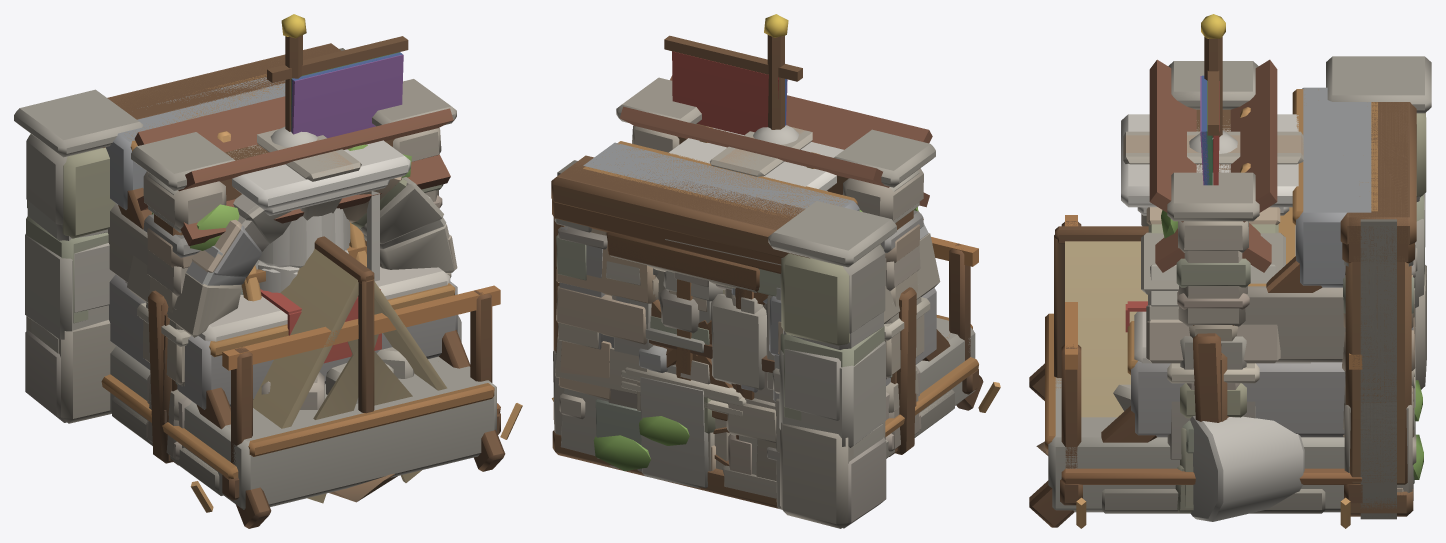
The model's file is building.glb.
The picture shows the model from 3 angles, left to right: view 1: azimuth 30°, elevation 25°; view 2: azimuth 150°, elevation 25°; view 3: azimuth 270°, elevation 25°; orthographic projection. The views are drawn at different scales.
Visible parts, largest first — view 1: p_stairs~0, p_tent~0, p_post~0, p_well~0, p_stairs~1, p_post~2, p_arch~0, p_gate~0, p_bridge~1, p_pillar~0, p_altar~0, p_banner~3 (+15 smaller); view 2: p_post~2, p_post~0, p_wallwood~0, p_walldoor~0, p_stairs~0, p_banner~0, p_wallwin~1, p_wall~3, p_wall~2, p_gate~0, p_well~0, p_wall~0 (+19 smaller); view 3: p_stairs~0, p_walldoor~0, p_tent~0, p_gate~0, p_wallwood~0, p_well~0, p_pillar~1, p_stairs~1, p_arch~1, p_post~0, p_gate~1, p_altar~0 (+14 smaller).
Part boxes in pixels (<box>): p_stairs~0: <box>105,77,496,509</box>; p_tent~0: <box>190,236,522,512</box>; p_post~0: <box>14,89,143,422</box>; p_well~0: <box>134,96,453,409</box>; p_stairs~1: <box>118,74,505,528</box>; p_post~2: <box>26,134,115,423</box>; p_arch~0: <box>127,129,454,448</box>; p_gate~0: <box>131,79,456,459</box>; p_bridge~1: <box>222,285,500,464</box>; p_pillar~0: <box>228,140,410,292</box>; p_altar~0: <box>112,266,450,495</box>; p_banner~3: <box>291,54,403,138</box>; p_post~2: <box>780,244,885,528</box>; p_post~0: <box>768,201,896,528</box>; p_wallwood~0: <box>551,155,809,508</box>; p_walldoor~0: <box>552,162,801,419</box>; p_stairs~0: <box>583,142,975,412</box>; p_banner~0: <box>664,14,802,135</box>; p_wallwin~1: <box>558,173,759,488</box>; p_wall~3: <box>558,284,782,470</box>; p_wall~2: <box>556,261,781,471</box>; p_gate~0: <box>616,77,935,451</box>; p_well~0: <box>620,75,932,207</box>; p_wall~0: <box>556,234,779,498</box>; p_stairs~0: <box>1048,87,1371,512</box>; p_walldoor~0: <box>1342,102,1417,519</box>; p_tent~0: <box>1054,226,1350,528</box>; p_gate~0: <box>1167,61,1259,513</box>; p_wallwood~0: <box>1340,102,1416,516</box>; p_well~0: <box>1113,59,1277,411</box>; p_pillar~1: <box>1190,415,1304,521</box>; p_stairs~1: <box>1029,89,1377,527</box>; p_arch~1: <box>1123,135,1303,363</box>; p_post~0: <box>1326,56,1431,327</box>; p_gate~1: <box>1173,91,1247,508</box>; p_altar~0: <box>1102,301,1325,513</box>.
Bounding box in the file's own units: 1.29 × 1.55 × 1.22.
